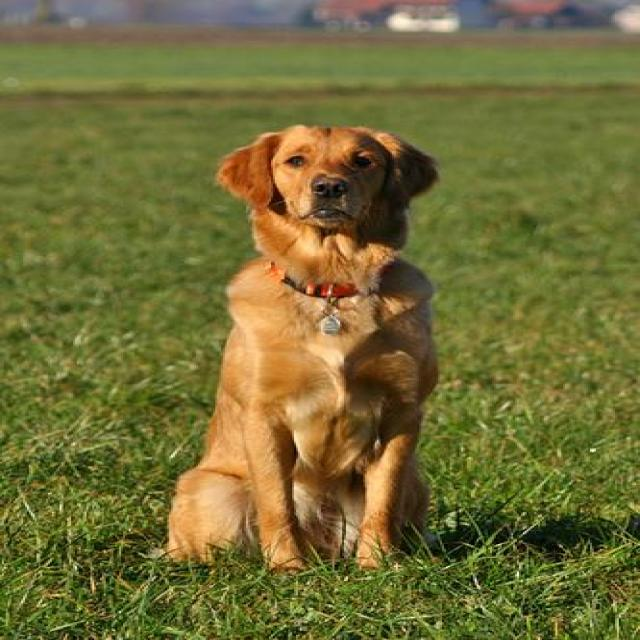sitting: (151, 118, 468, 581)
